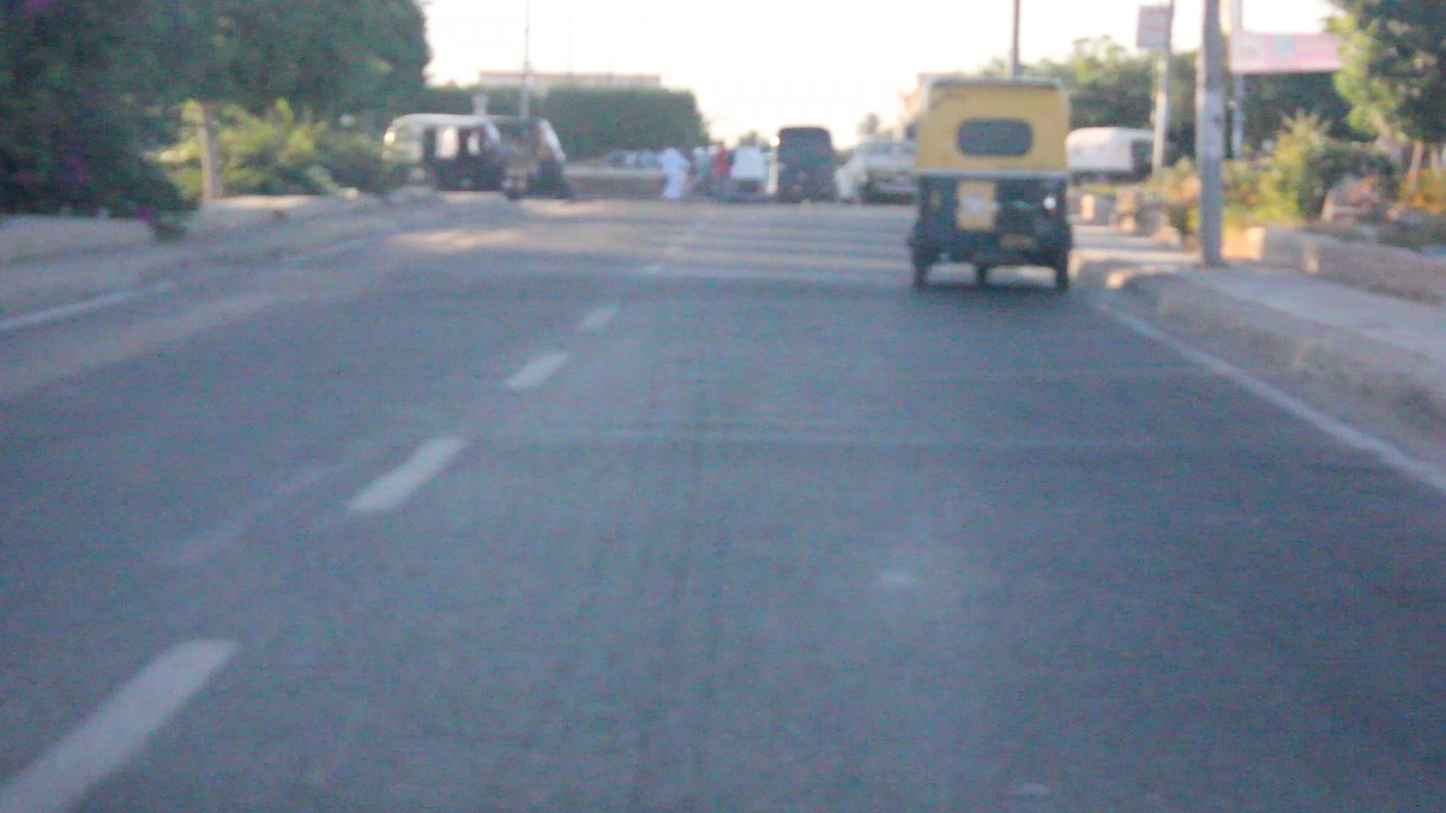Bump: (282, 255, 896, 296)
